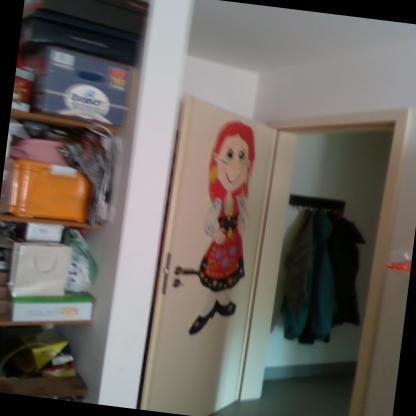open: (124, 79, 414, 415)
